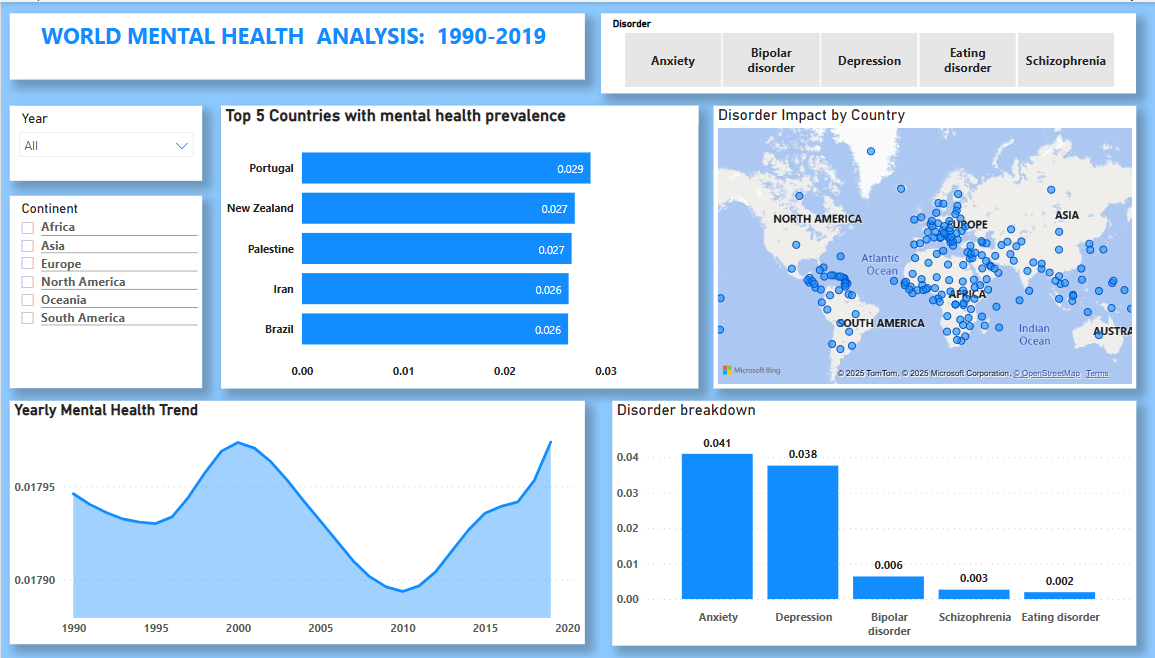

The dashboard page shown, as its layout file describes it:
{"tool":"powerbi","page":{"name":"Page 1","canvas":[1280,720],"ordinal":0},"visuals":[{"type":"textbox","box":[9.6,12.3,631.1,72.7],"z":0},{"type":"slicer","fields":{"Values":["Sheet1.Year"]},"box":[9.6,113.9,211.3,82.3],"z":1000},{"type":"slicer","fields":{"Values":["Sheet1.Continent"]},"box":[9.6,212.6,211.3,211.3],"z":2000},{"type":"slicer","fields":{"Values":["Sheet1.Disorder"]},"box":[658.5,12.3,587.2,87.8],"z":3000},{"type":"clusteredBarChart","title":"Top 5 Countries with  mental health prevalence","fields":{"Category":["Sheet1.Country"],"Y":["Sheet1.population share"]},"box":[241.5,113.9,524.1,310.1],"z":4000},{"type":"map","title":"Disorder Impact by Country","fields":{"Category":["Sheet1.Country"],"Y":["Sheet1.population share"]},"box":[782,113.9,463.7,310.1],"z":5000},{"type":"areaChart","title":"Yearly Mental Health Trend","fields":{"Y":["Sheet1.population share"],"Category":["Sheet1.Year"]},"box":[9.6,437.6,631.1,267.5],"z":6000},{"type":"clusteredColumnChart","title":"Disorder breakdown","fields":{"Y":["Sheet1.population share"],"Category":["Sheet1.Disorder"]},"box":[670.9,437.6,574.8,268.9],"z":7000}]}

Visuals, with their boxes in screenshot pixels (x1, y1, x2, y2), scaled from the page's 1280x720 canvas onto the 1155x658 screenshot:
textbox: (left=9, top=11, right=578, bottom=78)
slicer - Sheet1.Year: (left=9, top=104, right=199, bottom=179)
slicer - Sheet1.Continent: (left=9, top=194, right=199, bottom=387)
slicer - Sheet1.Disorder: (left=594, top=11, right=1124, bottom=91)
"Top 5 Countries with  mental health prevalence" clusteredBarChart: (left=218, top=104, right=691, bottom=387)
"Disorder Impact by Country" map: (left=706, top=104, right=1124, bottom=387)
"Yearly Mental Health Trend" areaChart: (left=9, top=400, right=578, bottom=644)
"Disorder breakdown" clusteredColumnChart: (left=605, top=400, right=1124, bottom=646)
